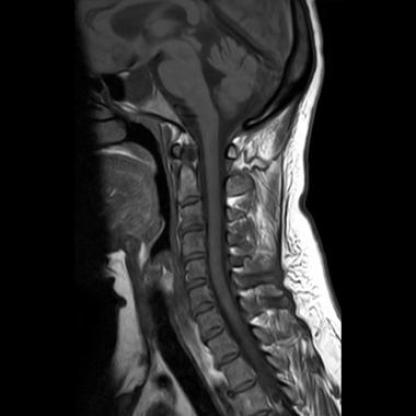Disc Bulgerotation: (179, 251, 207, 267), (176, 223, 207, 237)
